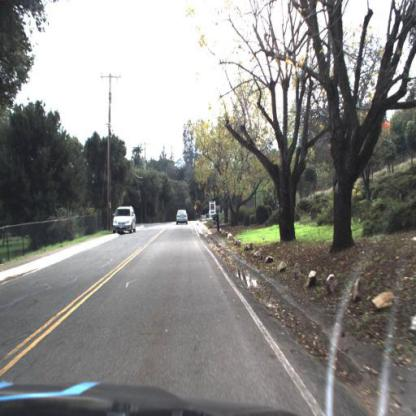car: (109, 204, 139, 235), (174, 208, 191, 231)
